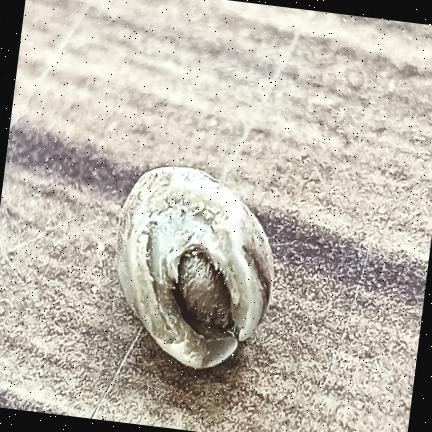cut: (116, 166, 273, 368)
